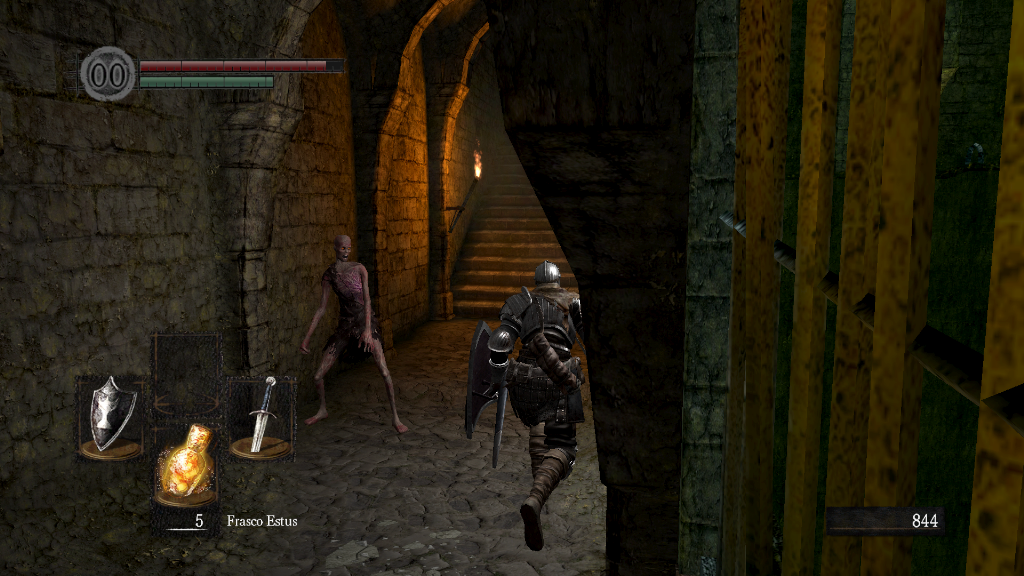health: (138, 58, 343, 71)
hollow: (299, 233, 406, 434)
humanity: (80, 45, 136, 102)
player: (466, 261, 591, 554)
souls: (825, 506, 945, 536)
stamina: (138, 74, 274, 88)
